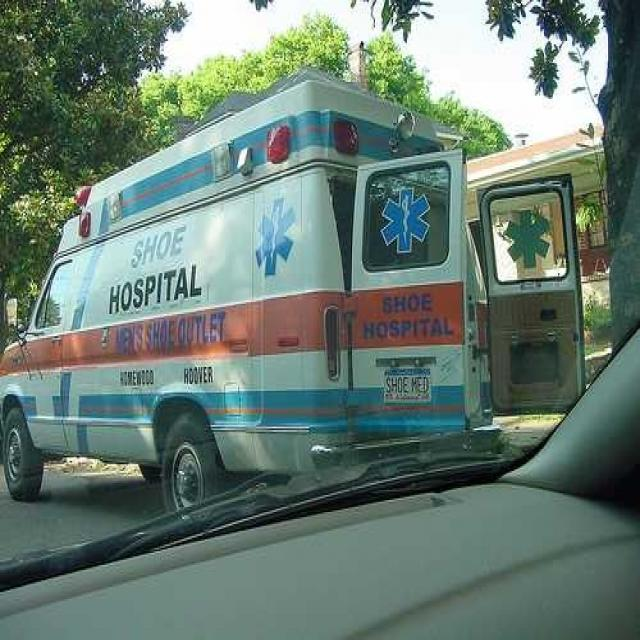emergency-vehicle: (6, 48, 528, 442)
